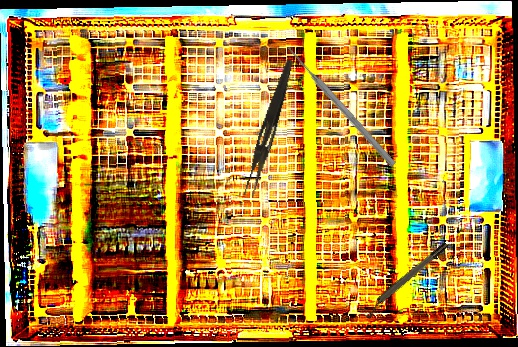Dressing Forceps: (242, 57, 296, 199)
Fixation Ring: (359, 240, 453, 320)
Pusher: (284, 43, 398, 169)
